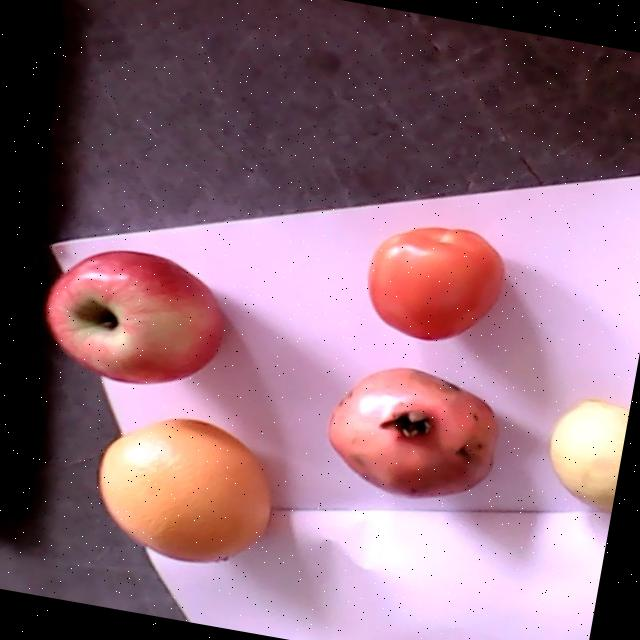apple: (47, 250, 232, 383)
lemon: (550, 398, 628, 512)
orange: (98, 417, 275, 562)
pomegranate: (326, 367, 499, 497)
tomato: (367, 226, 503, 339)
